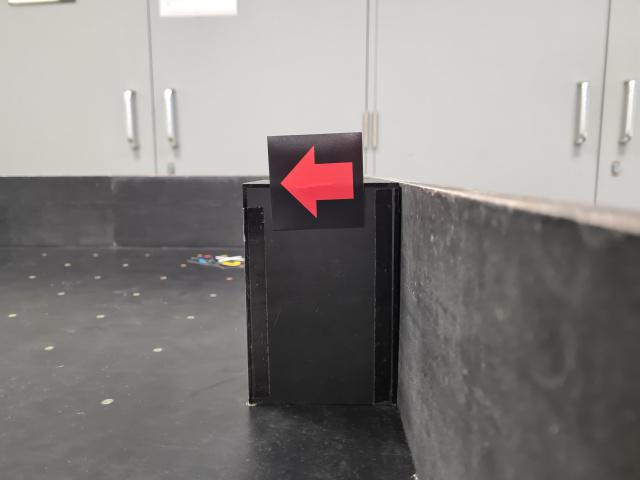left_arrow: (267, 133, 366, 230)
